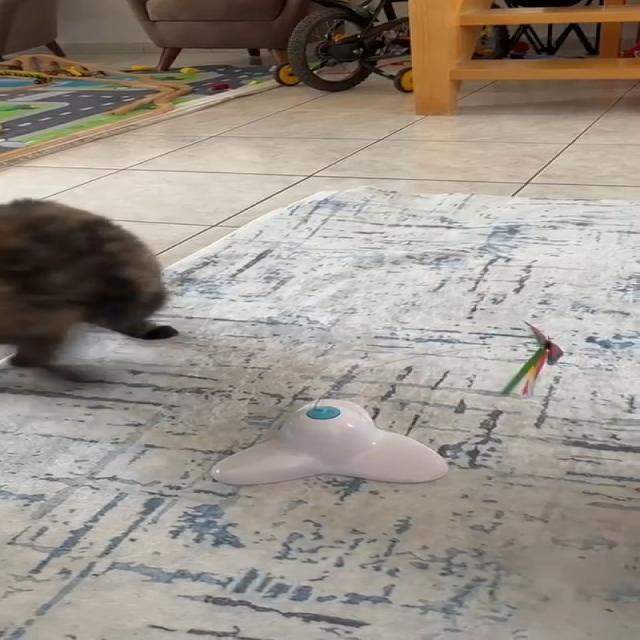authorized: (0, 196, 179, 378)
